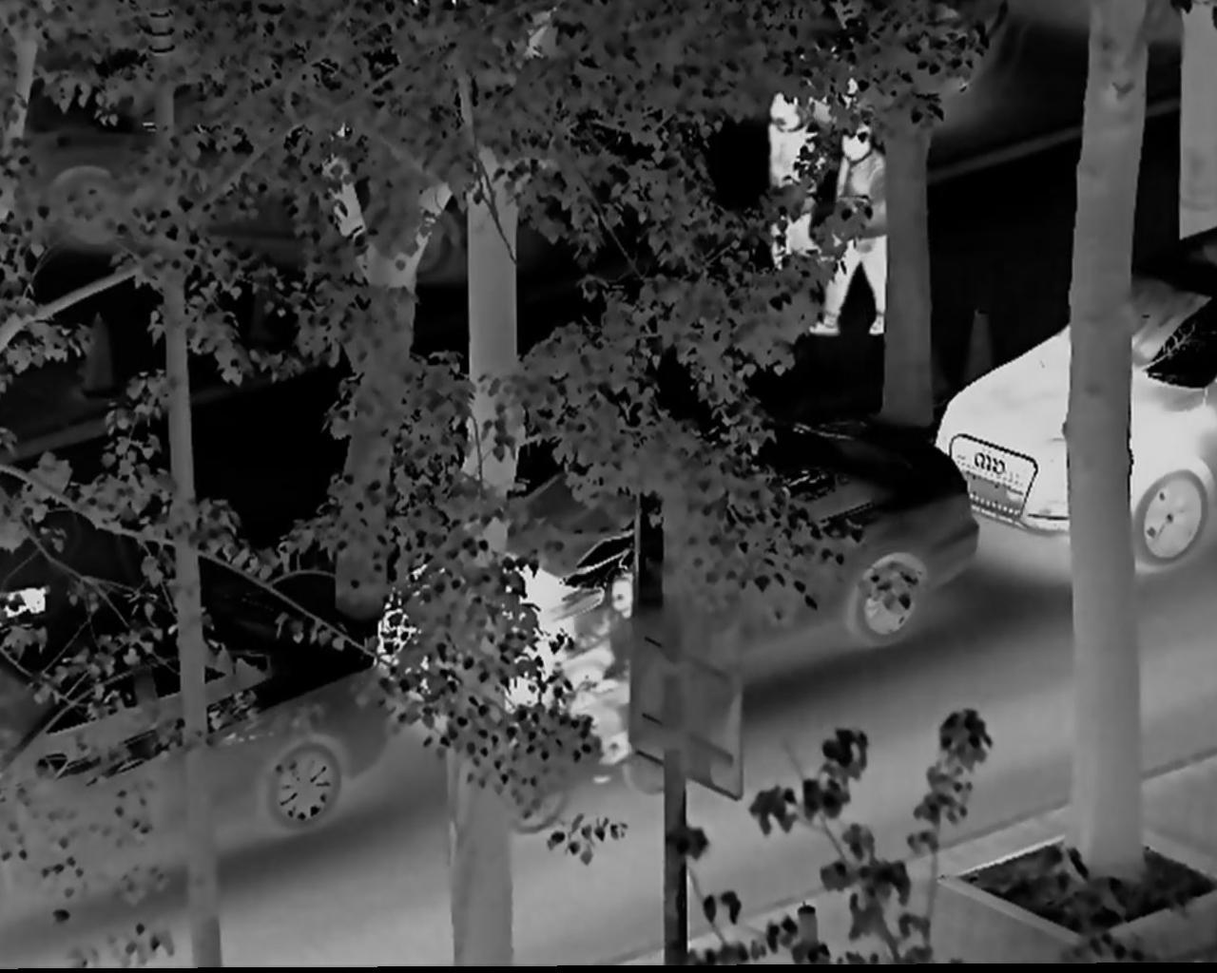person: (561, 563, 677, 783), (817, 116, 900, 346), (757, 82, 821, 302)
